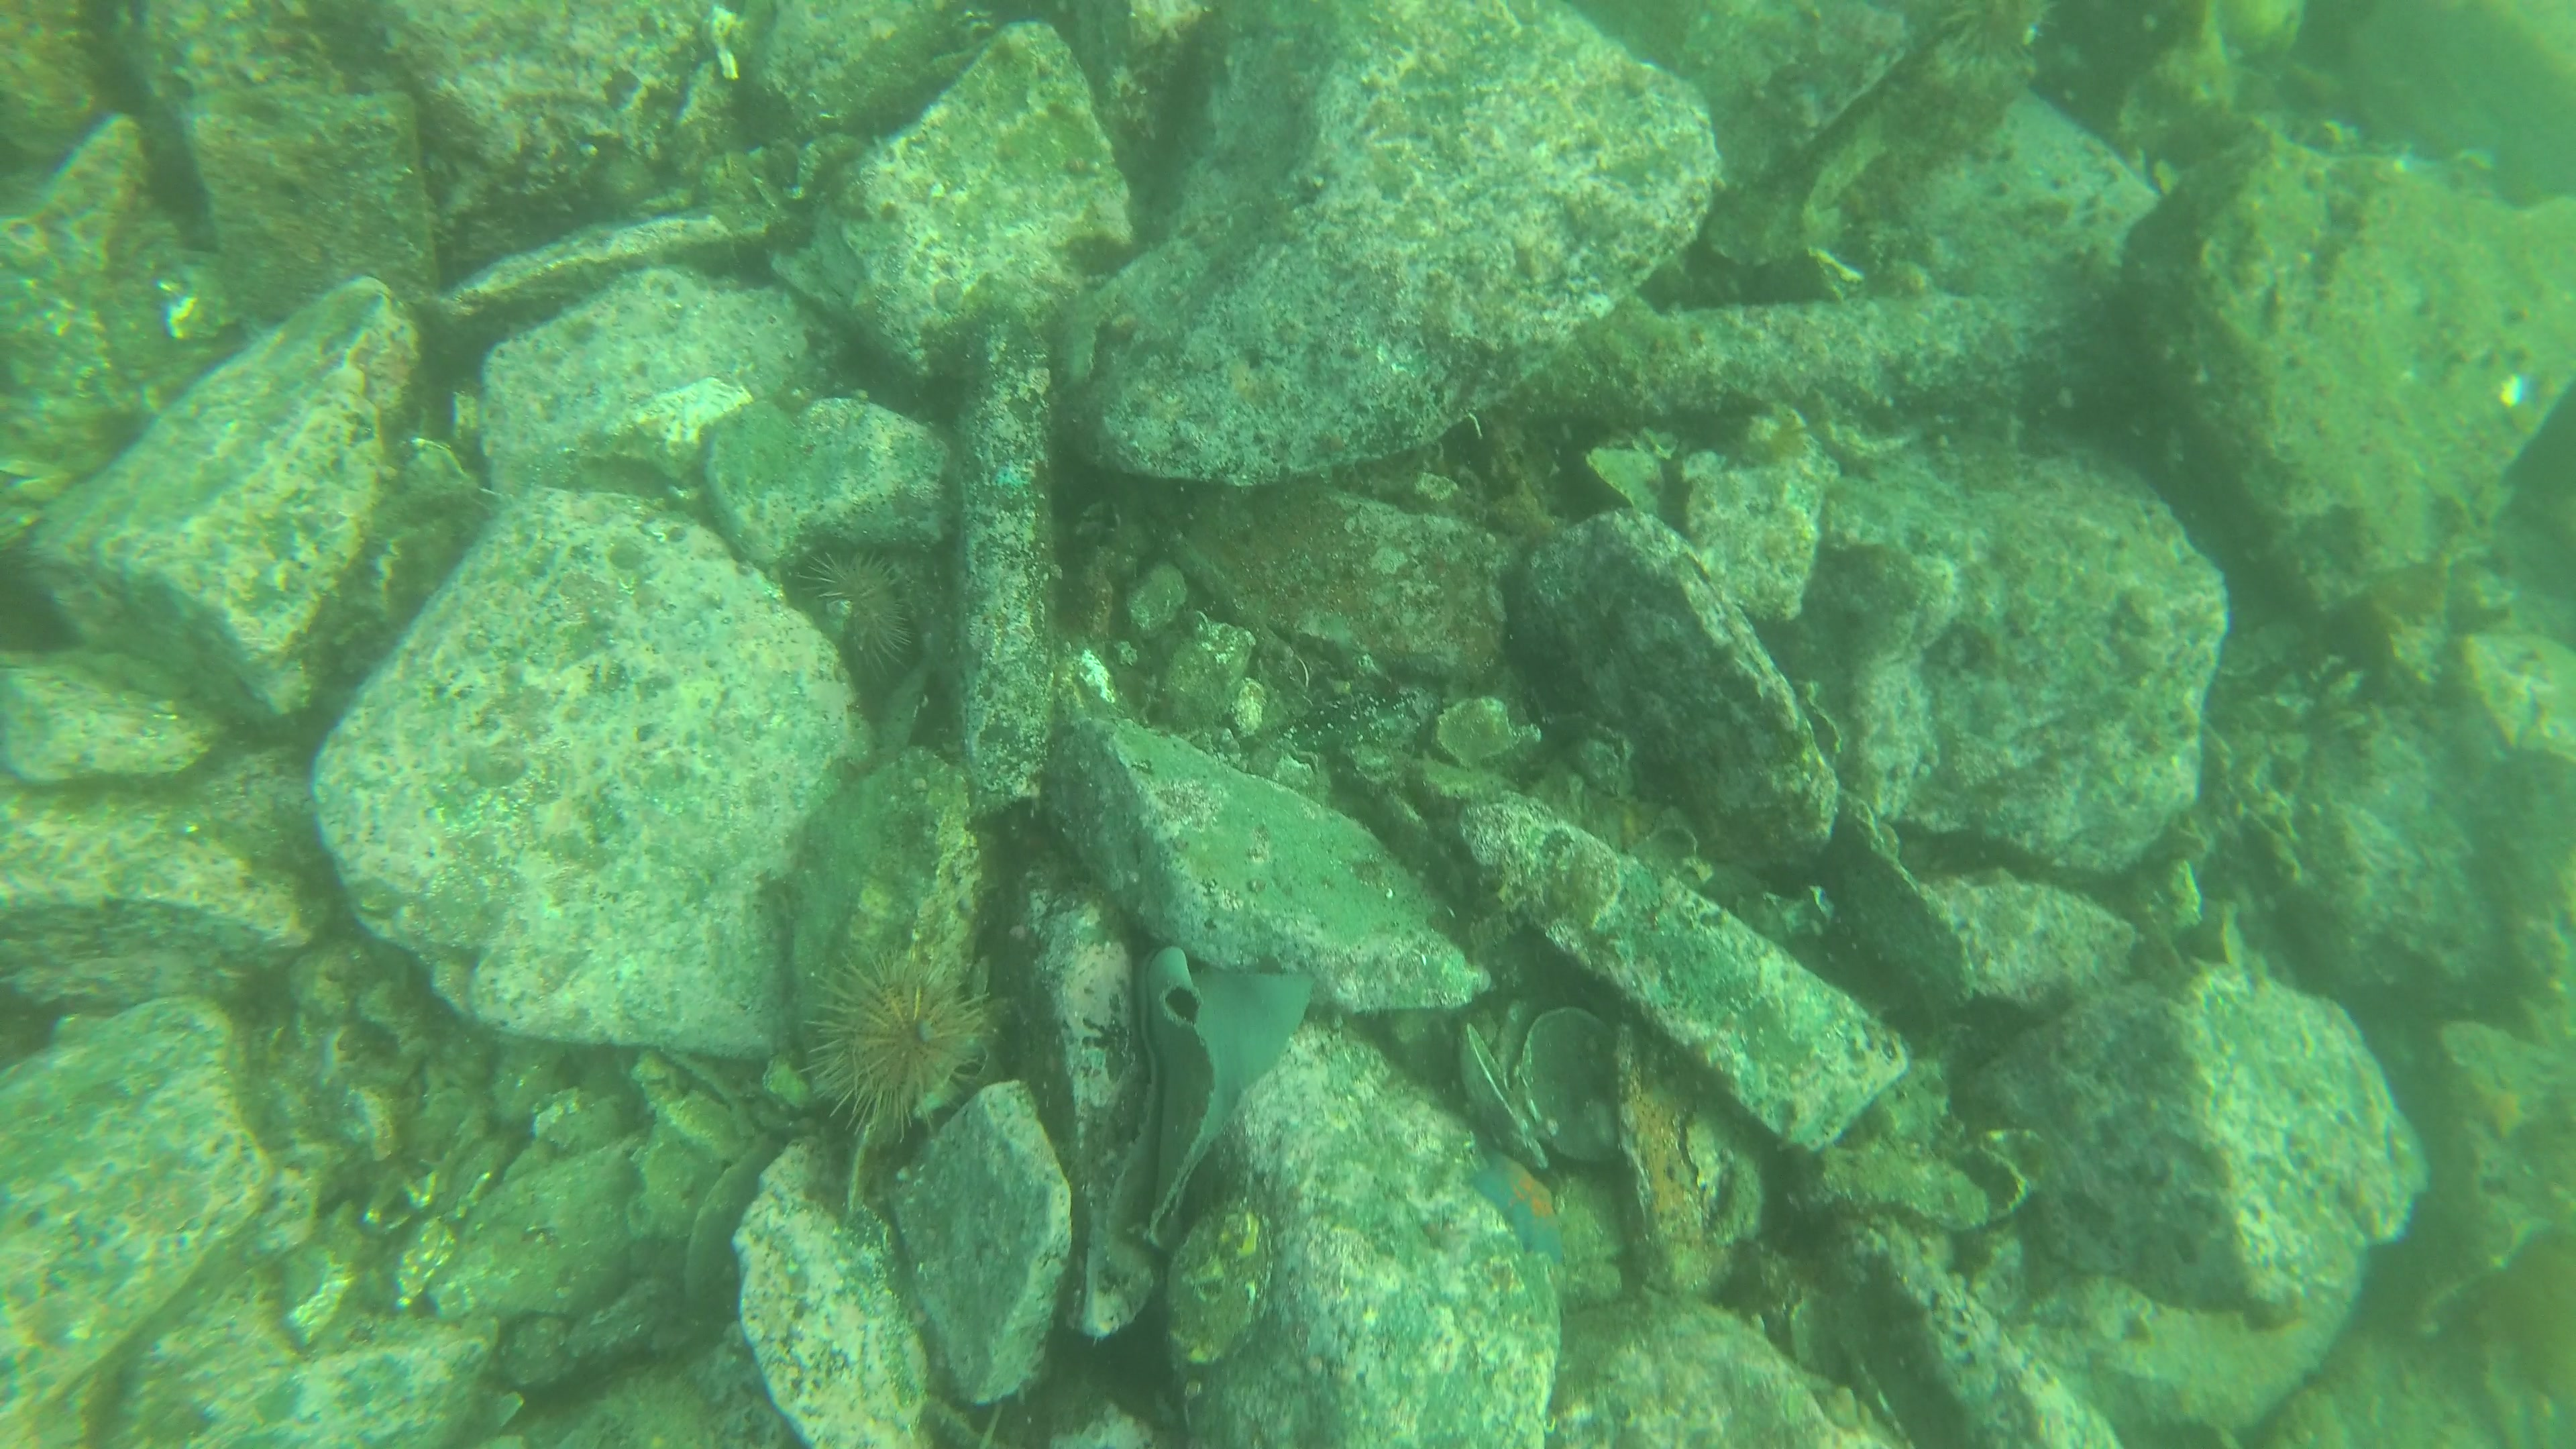echinus: (782, 954, 998, 1123), (794, 541, 915, 679), (1927, 0, 2061, 73)
scallop: (1454, 1003, 1633, 1173)
starfish: (1467, 1152, 1568, 1261)
